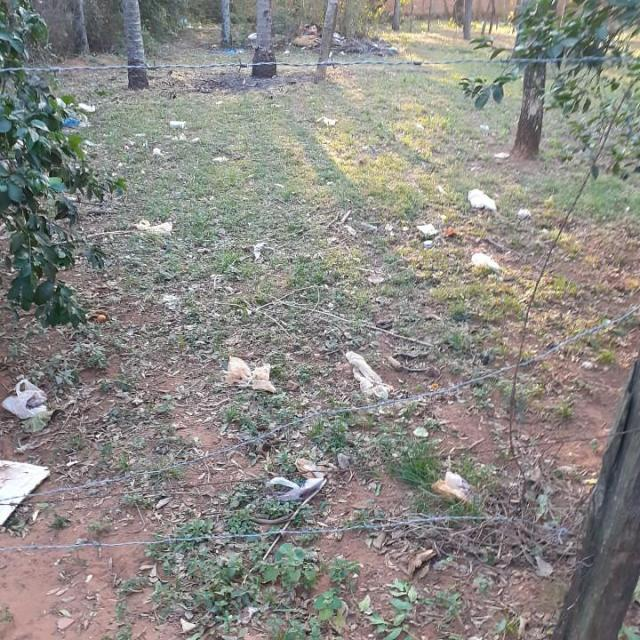litter: (1, 379, 49, 417)
